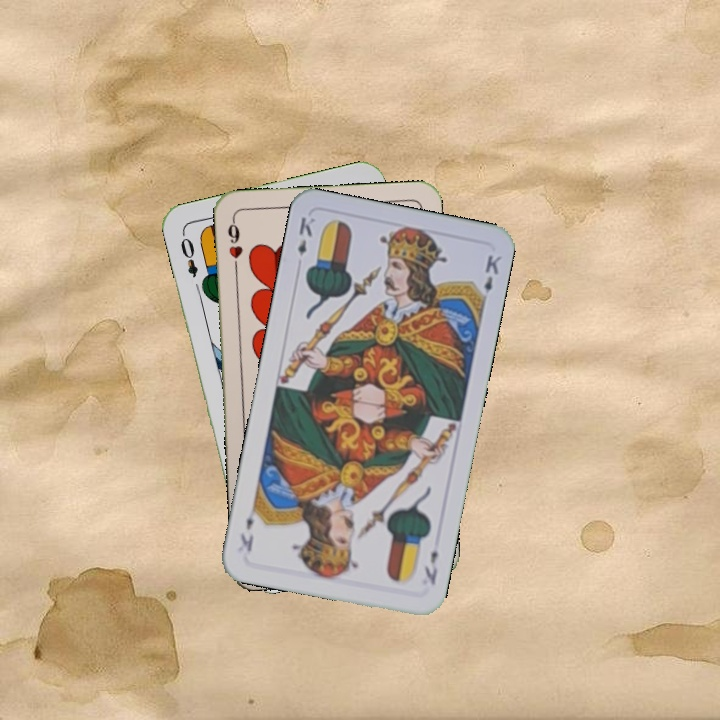EK: (293, 213, 317, 258), (420, 546, 441, 588)
EO: (176, 229, 201, 280)
H9: (223, 215, 245, 274)
